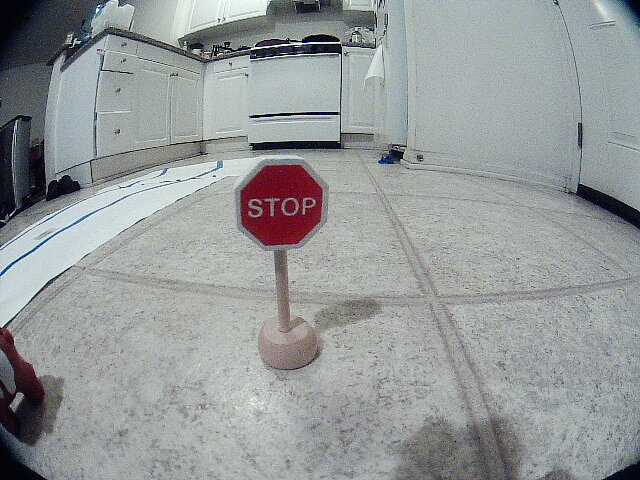Stop Sign: (190, 132, 353, 266)
